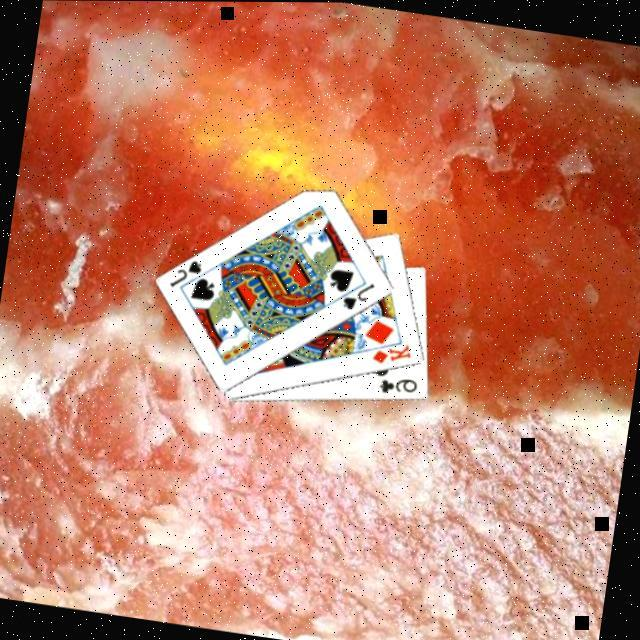9C: (375, 373, 422, 402)
JS: (166, 255, 207, 295), (340, 277, 380, 317)
KD: (369, 338, 416, 372)
